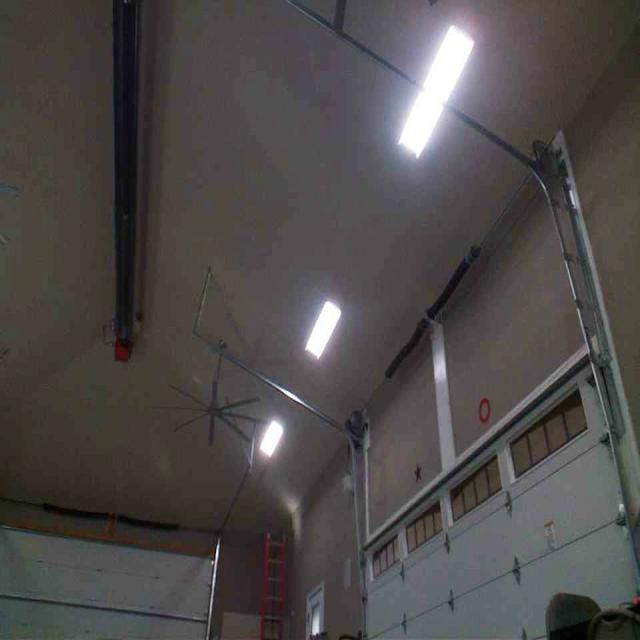ring_red: (477, 397, 491, 422)
star_black: (414, 461, 422, 481)
